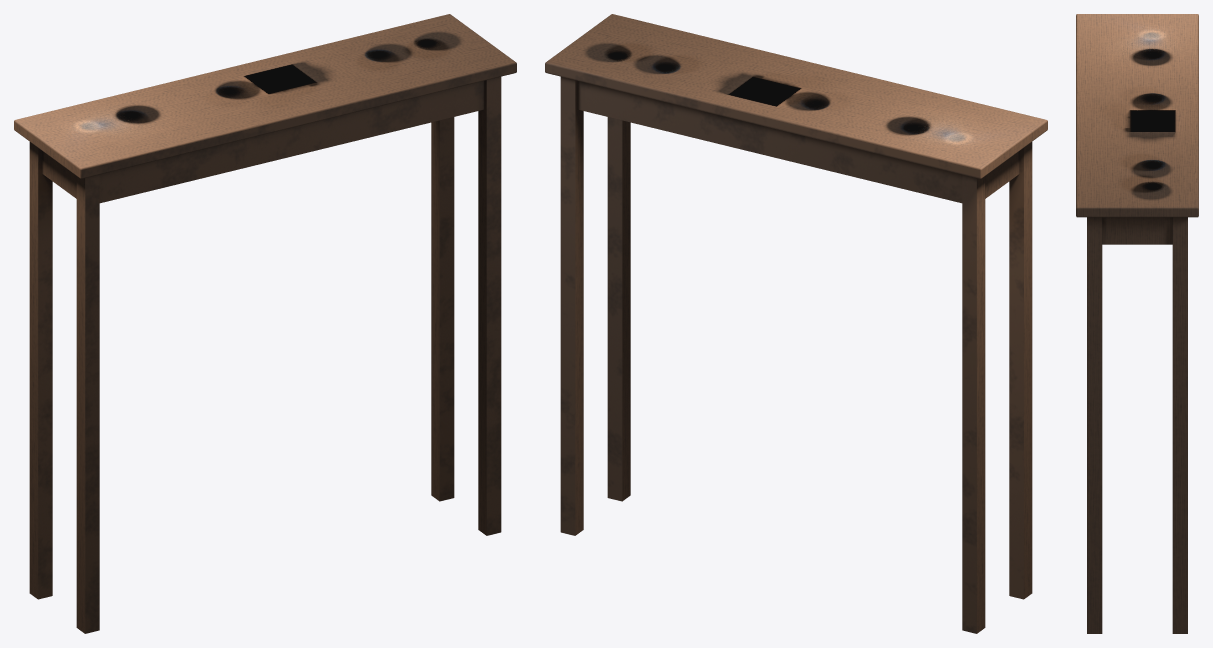
File: 506_hook.glb
The picture shows the model from 3 angles, left to right: view 1: azimuth 30°, elevation 25°; view 2: azimuth 150°, elevation 25°; view 3: azimuth 270°, elevation 25°; orthographic projection. The views are drawn at different scales.
Visible parts, largest first — view 1: Table; view 2: Table; view 3: Table.
Part boxes in pixels (x1,y1,x2,y2): Table: (14, 14, 516, 633); Table: (545, 14, 1047, 633); Table: (1076, 14, 1198, 633).
Size of what is drawn, in the model's own units: 3 by 3.1 by 0.8.
Materials: 1 (1 with a texture image).
